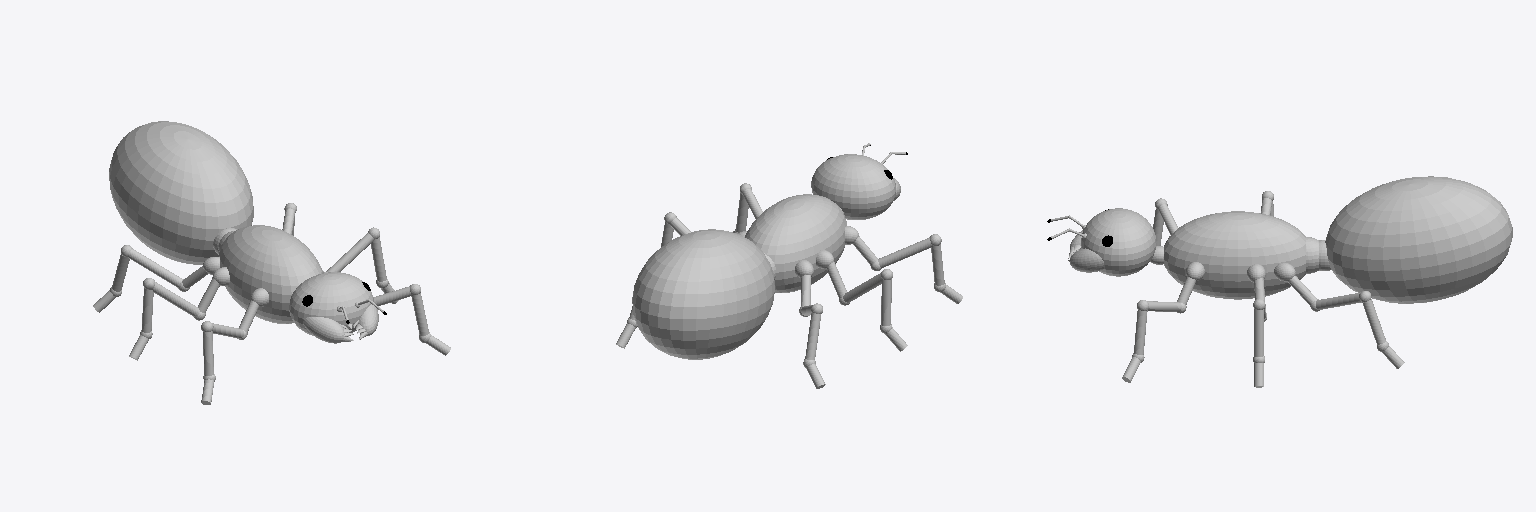
File: SoldierAnt.obj
3 views of the same model, side by side, from view 1: azimuth 30°, elevation 25°; view 2: azimuth 150°, elevation 25°; view 3: azimuth 270°, elevation 25° (orthographic).
Visible parts, largest first — view 1: Cone.006_Cone.009; view 2: Cone.006_Cone.009; view 3: Cone.006_Cone.009.
Boxes of the visible parts, box(x1,y1,x2,y2) form: Cone.006_Cone.009: box(93, 121, 450, 404); Cone.006_Cone.009: box(616, 154, 962, 388); Cone.006_Cone.009: box(1068, 176, 1512, 387).
Size of the model in its own units: 4.85 by 2.49 by 7.37.